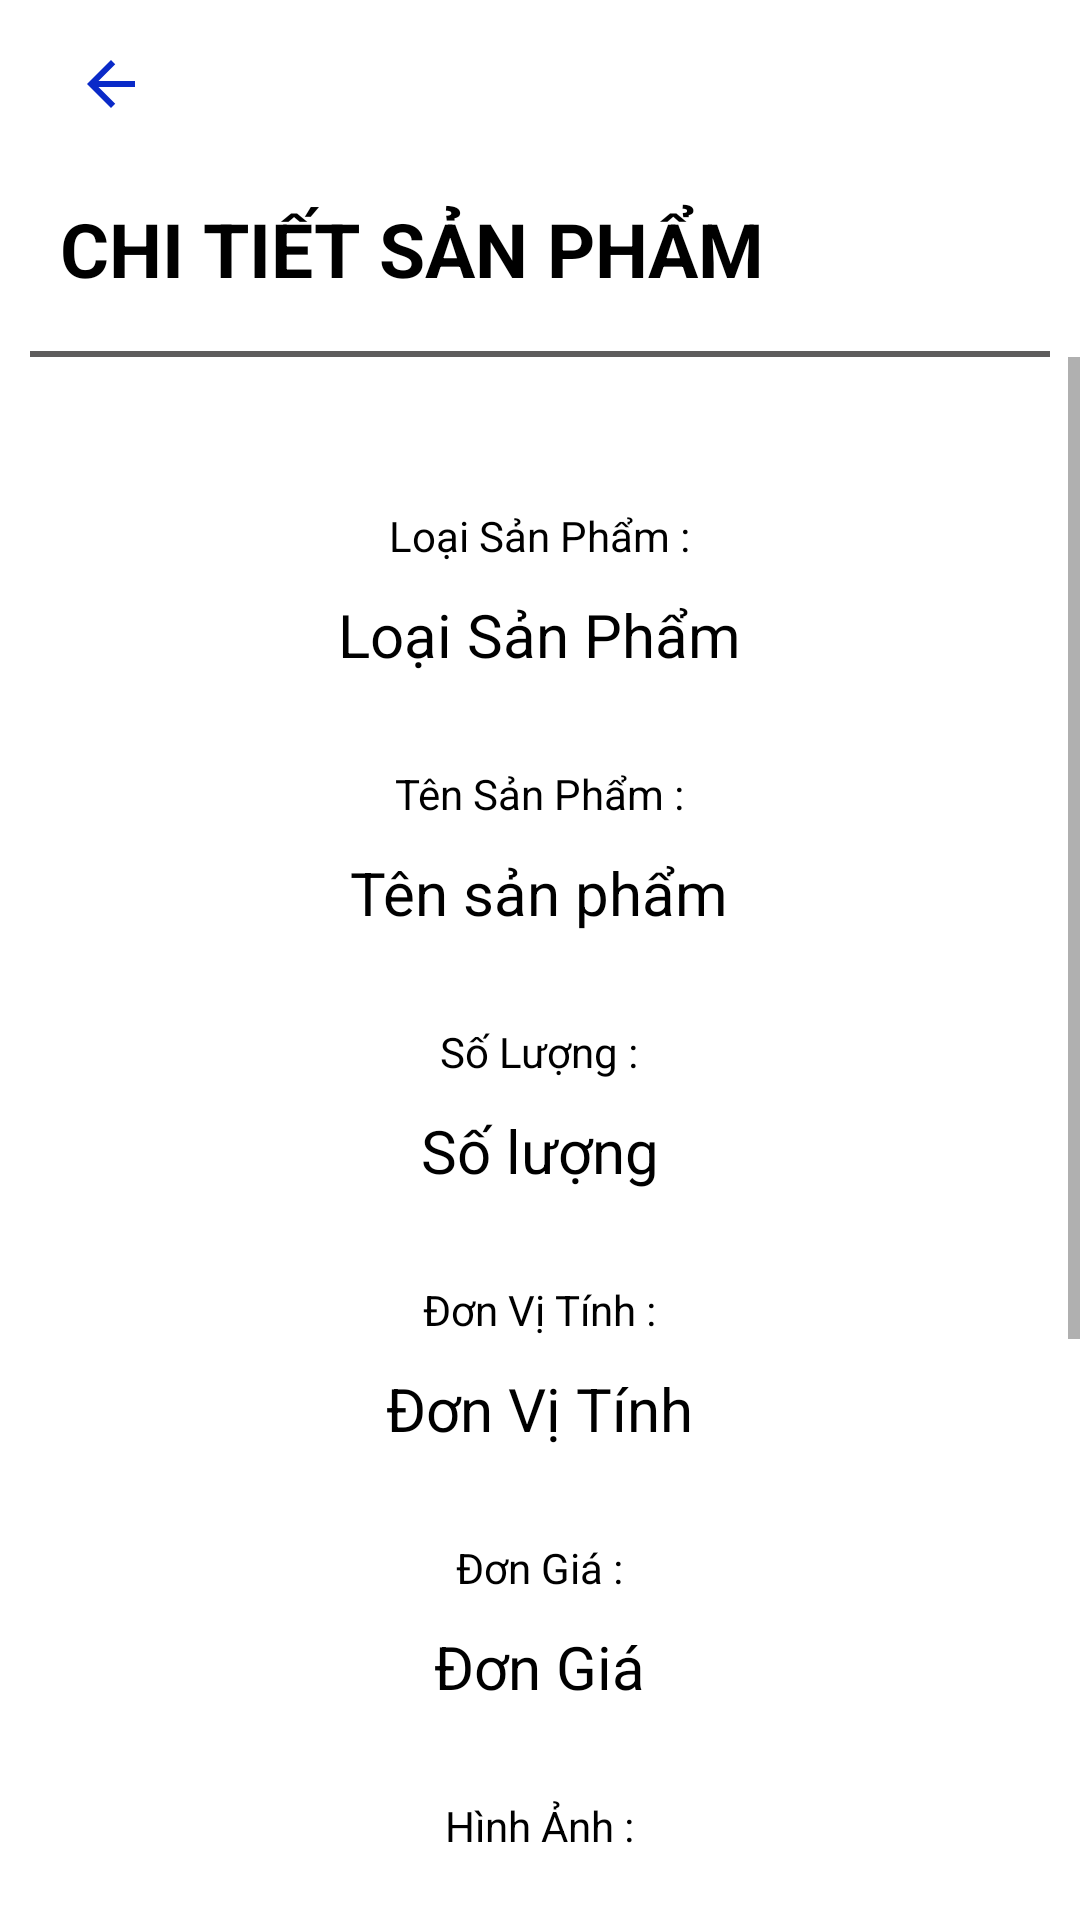

Icons on this 1080x1920 Android screen, each with the point to tap as (x,y):
arrow back: (111,84)
